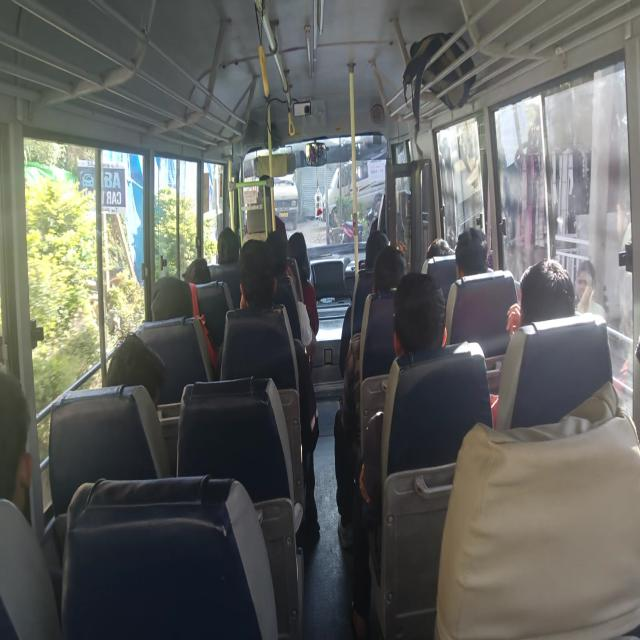person: (1, 368, 48, 521), (108, 322, 178, 415), (387, 278, 451, 372), (521, 268, 576, 320), (242, 252, 286, 316), (149, 274, 202, 326), (449, 244, 496, 296), (216, 228, 246, 276), (380, 249, 408, 292), (377, 167, 402, 215), (186, 253, 216, 291), (288, 236, 313, 276), (257, 234, 290, 263), (254, 166, 276, 202), (422, 242, 452, 268), (367, 234, 388, 271)
